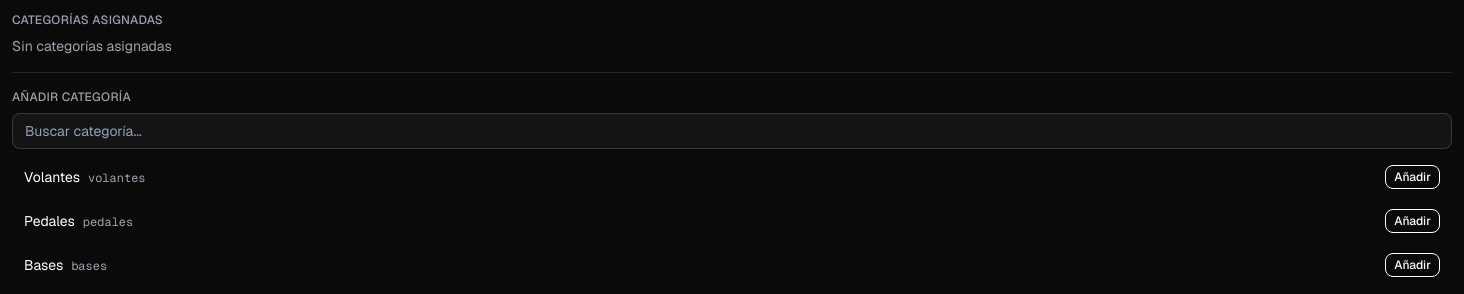
Test: CategoryAssignPanel › búsqueda › muestra 'Sin resultados' cuando la búsqueda no encuentra nada
Type "zzz" into the field with placeholder "Buscar categoría..." at (732,131), box [12,113,1452,149]
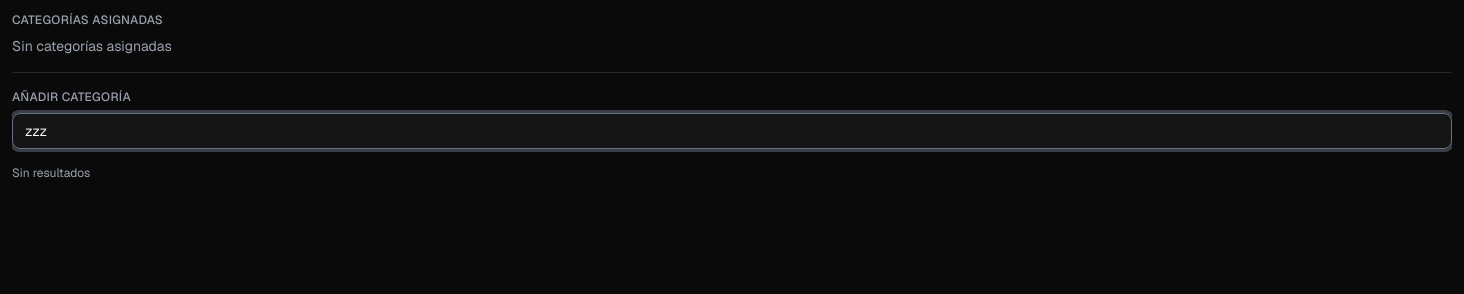
expect the text "Sin resultados" is shown: met, box [12,165,90,181]
